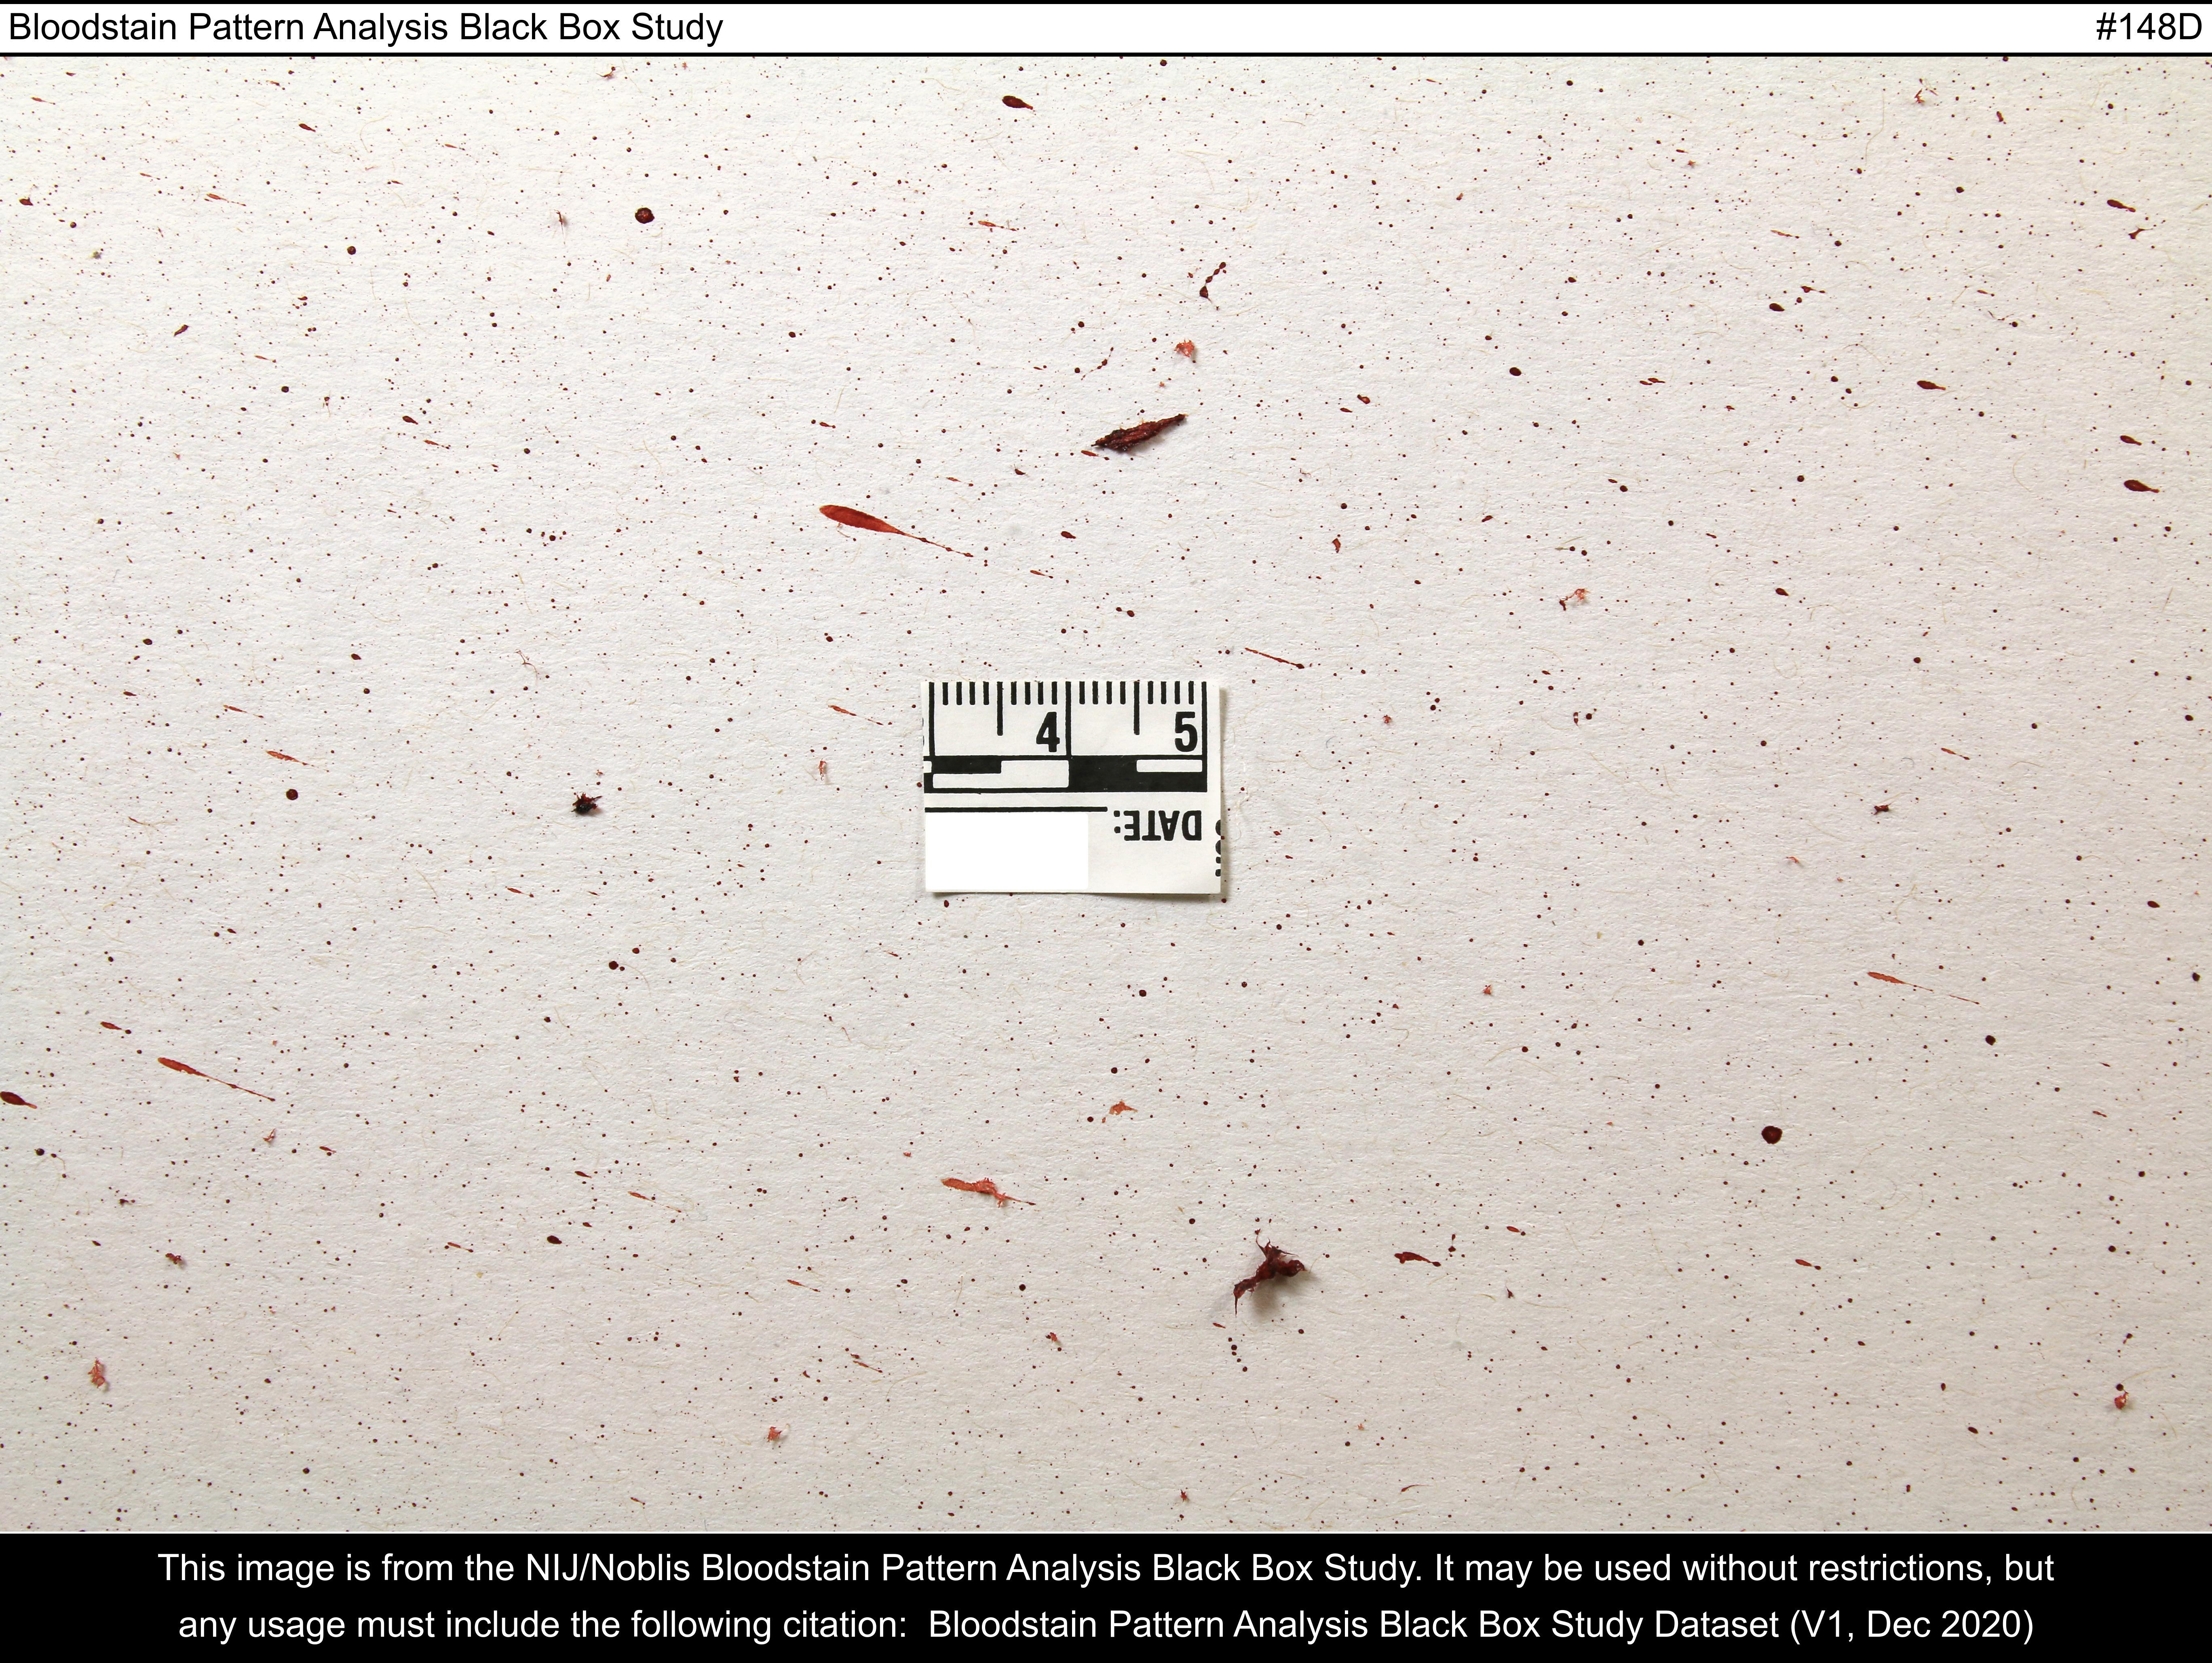Impact: (3, 56, 2205, 667), (9, 690, 889, 1502), (948, 1029, 2212, 1541)
